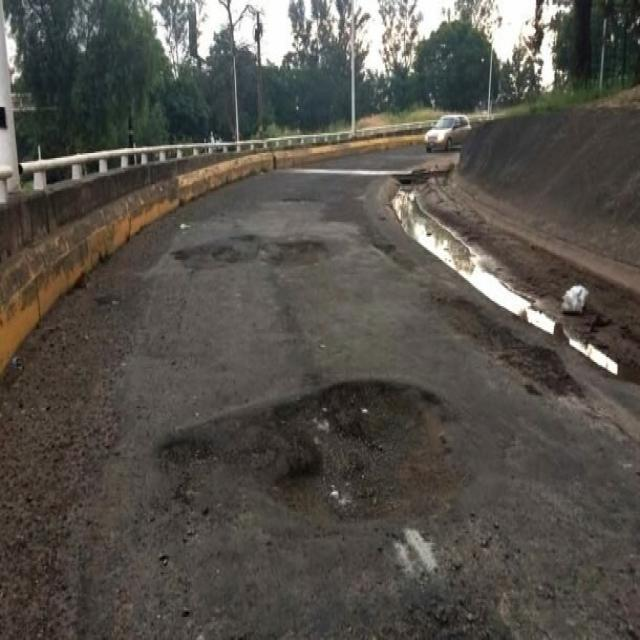Pothole: (145, 357, 465, 569), (166, 217, 369, 321)
